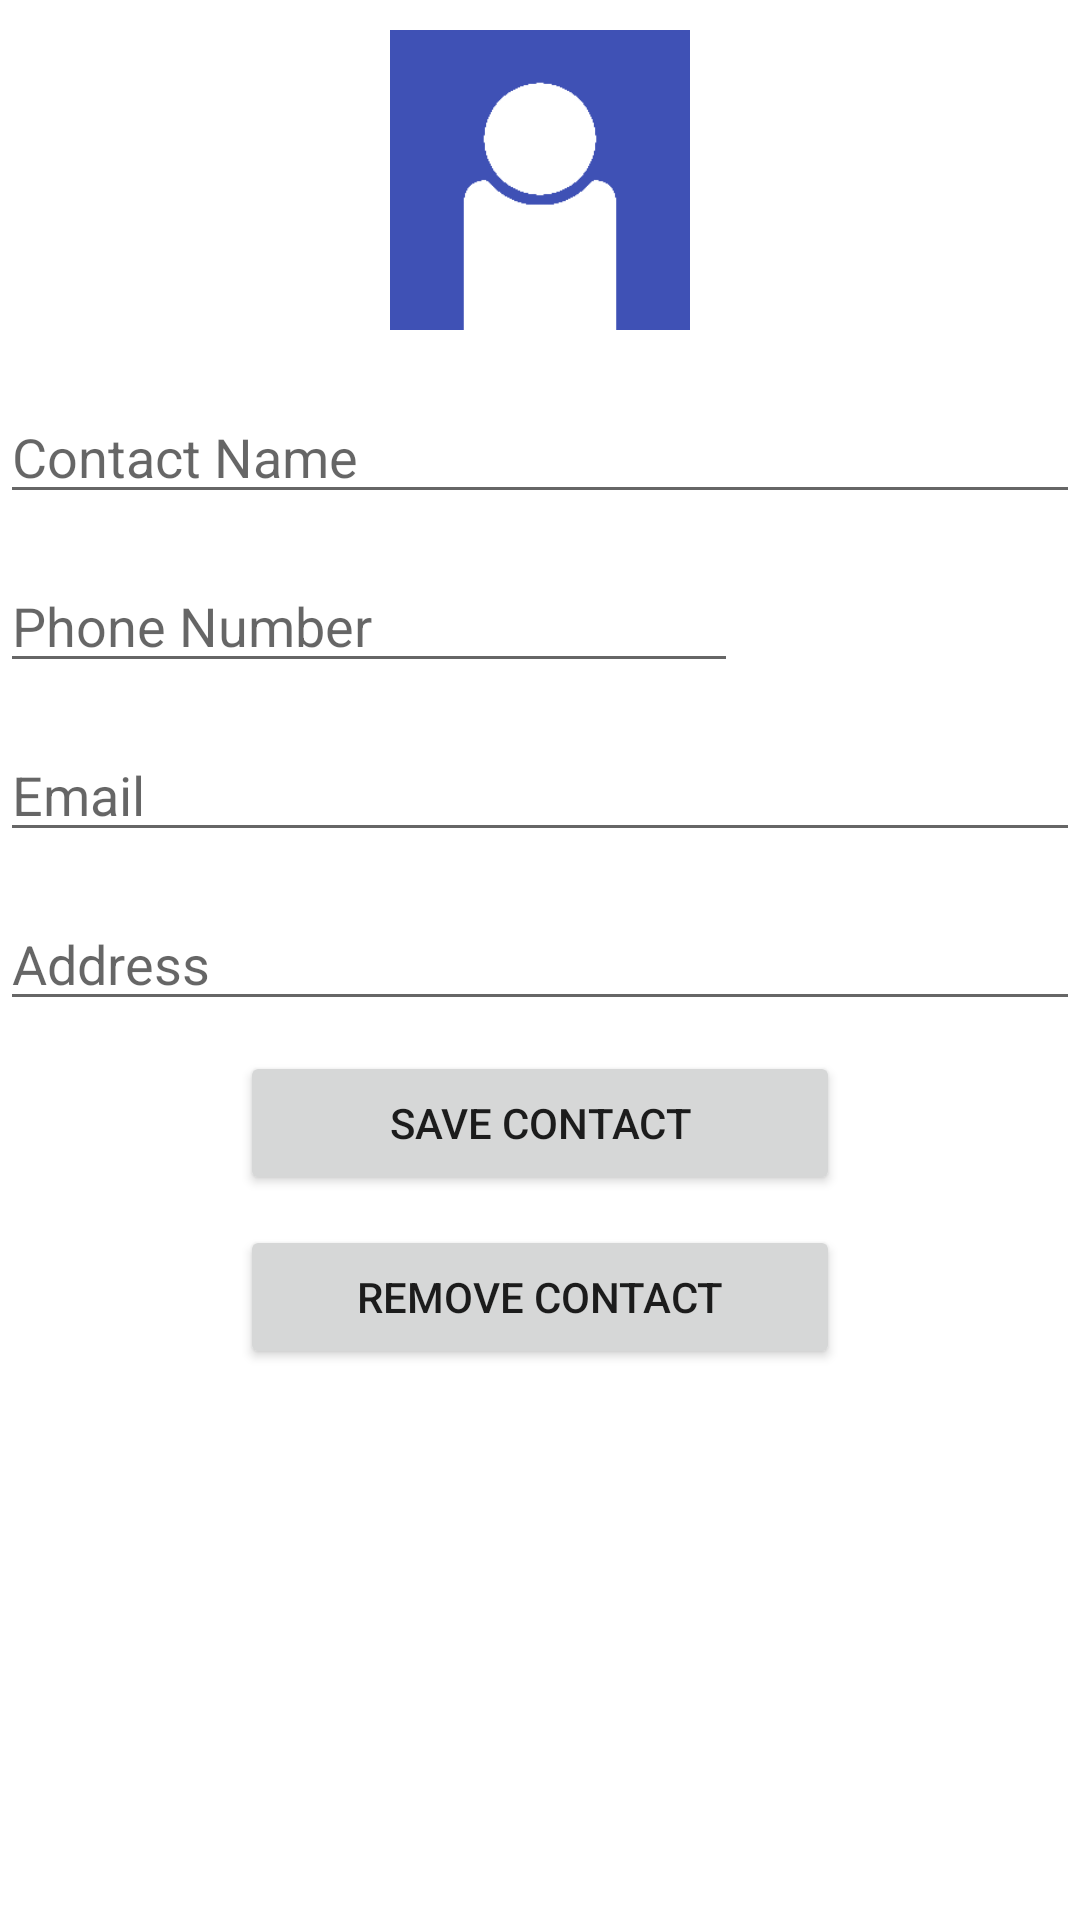

Icons on this 1080px x 1920px Android screen, each with its box as (x1, y1, x2, y2):
photo: (390, 30, 690, 330)
